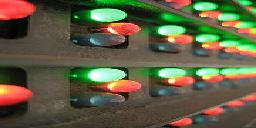LED: (85, 2, 142, 29), (82, 65, 135, 88), (157, 20, 189, 38)
